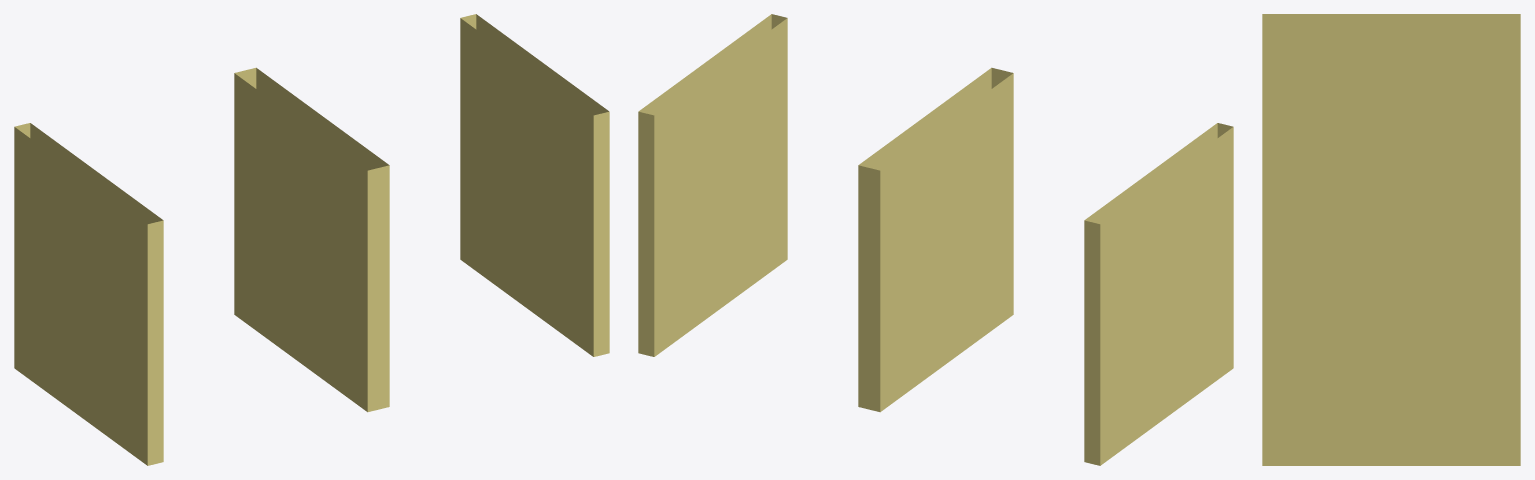
File: walkway_pillars.FBX
The picture shows the model from 3 angles, left to right: view 1: azimuth 30°, elevation 25°; view 2: azimuth 150°, elevation 25°; view 3: azimuth 270°, elevation 25°; orthographic projection. The views are drawn at different scales.
Parts seen in each view (by area): view 1: Object007; view 2: Object007; view 3: Object007.
Part boxes in pixels (x1,y1,x2,y2): Object007: [14, 14, 609, 465]; Object007: [638, 14, 1233, 465]; Object007: [1262, 14, 1520, 465].
Size of the model in its own units: 20 by 10 by 10.
